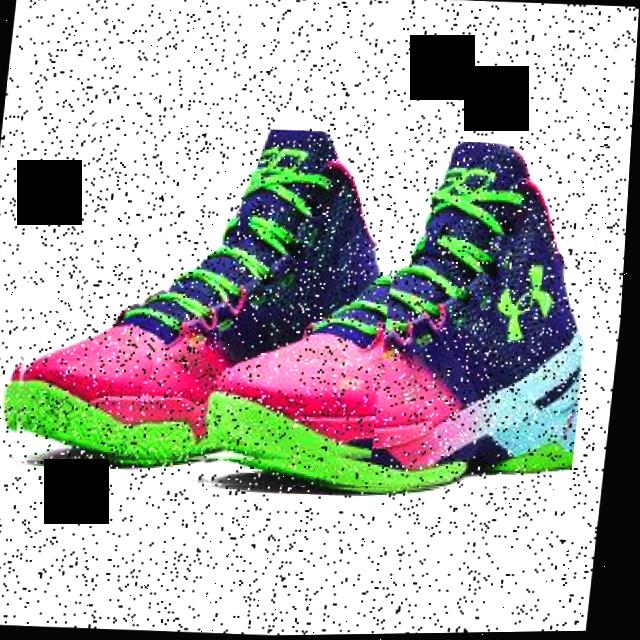shoe: (195, 129, 611, 505), (4, 117, 410, 480)
